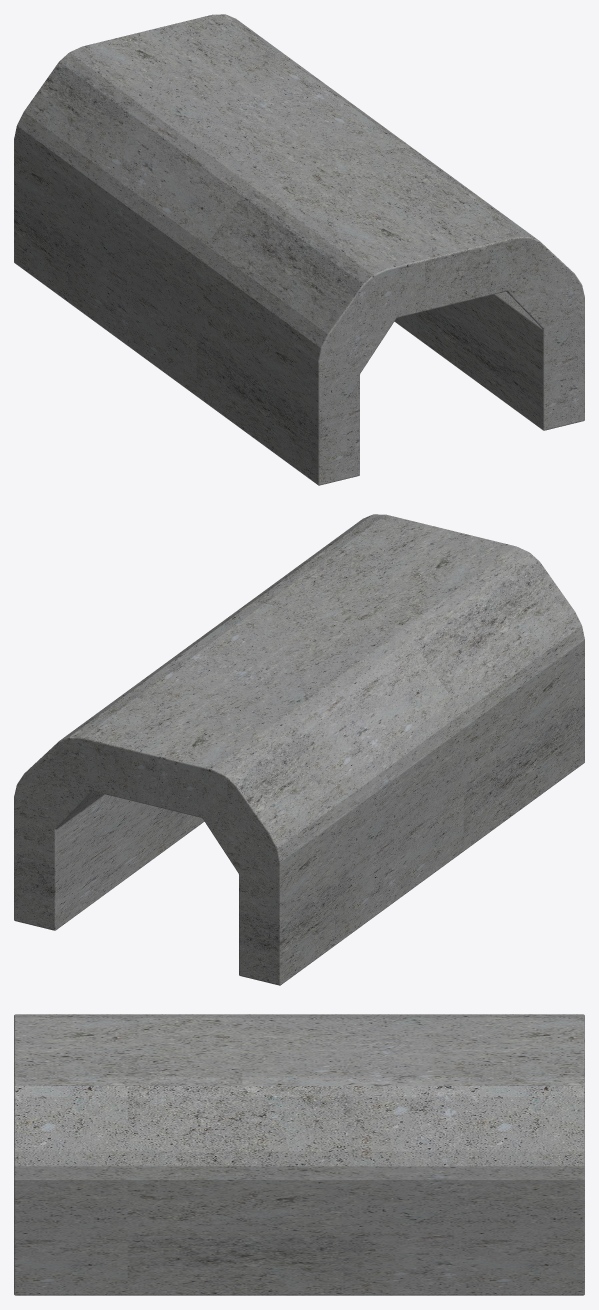
Rendered from tunnel.glb.
3 views of the same model, one above another, from view 1: azimuth 30°, elevation 25°; view 2: azimuth 150°, elevation 25°; view 3: azimuth 270°, elevation 25° (orthographic). The views are drawn at different scales.
Visible parts, largest first — view 1: Cube; view 2: Cube; view 3: Cube.
Part boxes in pixels (x1,y1,x2,y2): Cube: [14, 14, 584, 485]; Cube: [14, 514, 584, 985]; Cube: [14, 1014, 584, 1295].
Bounding box in the file's own units: 12.02 × 8.62 × 23.78.
1 material, 1 textured.
